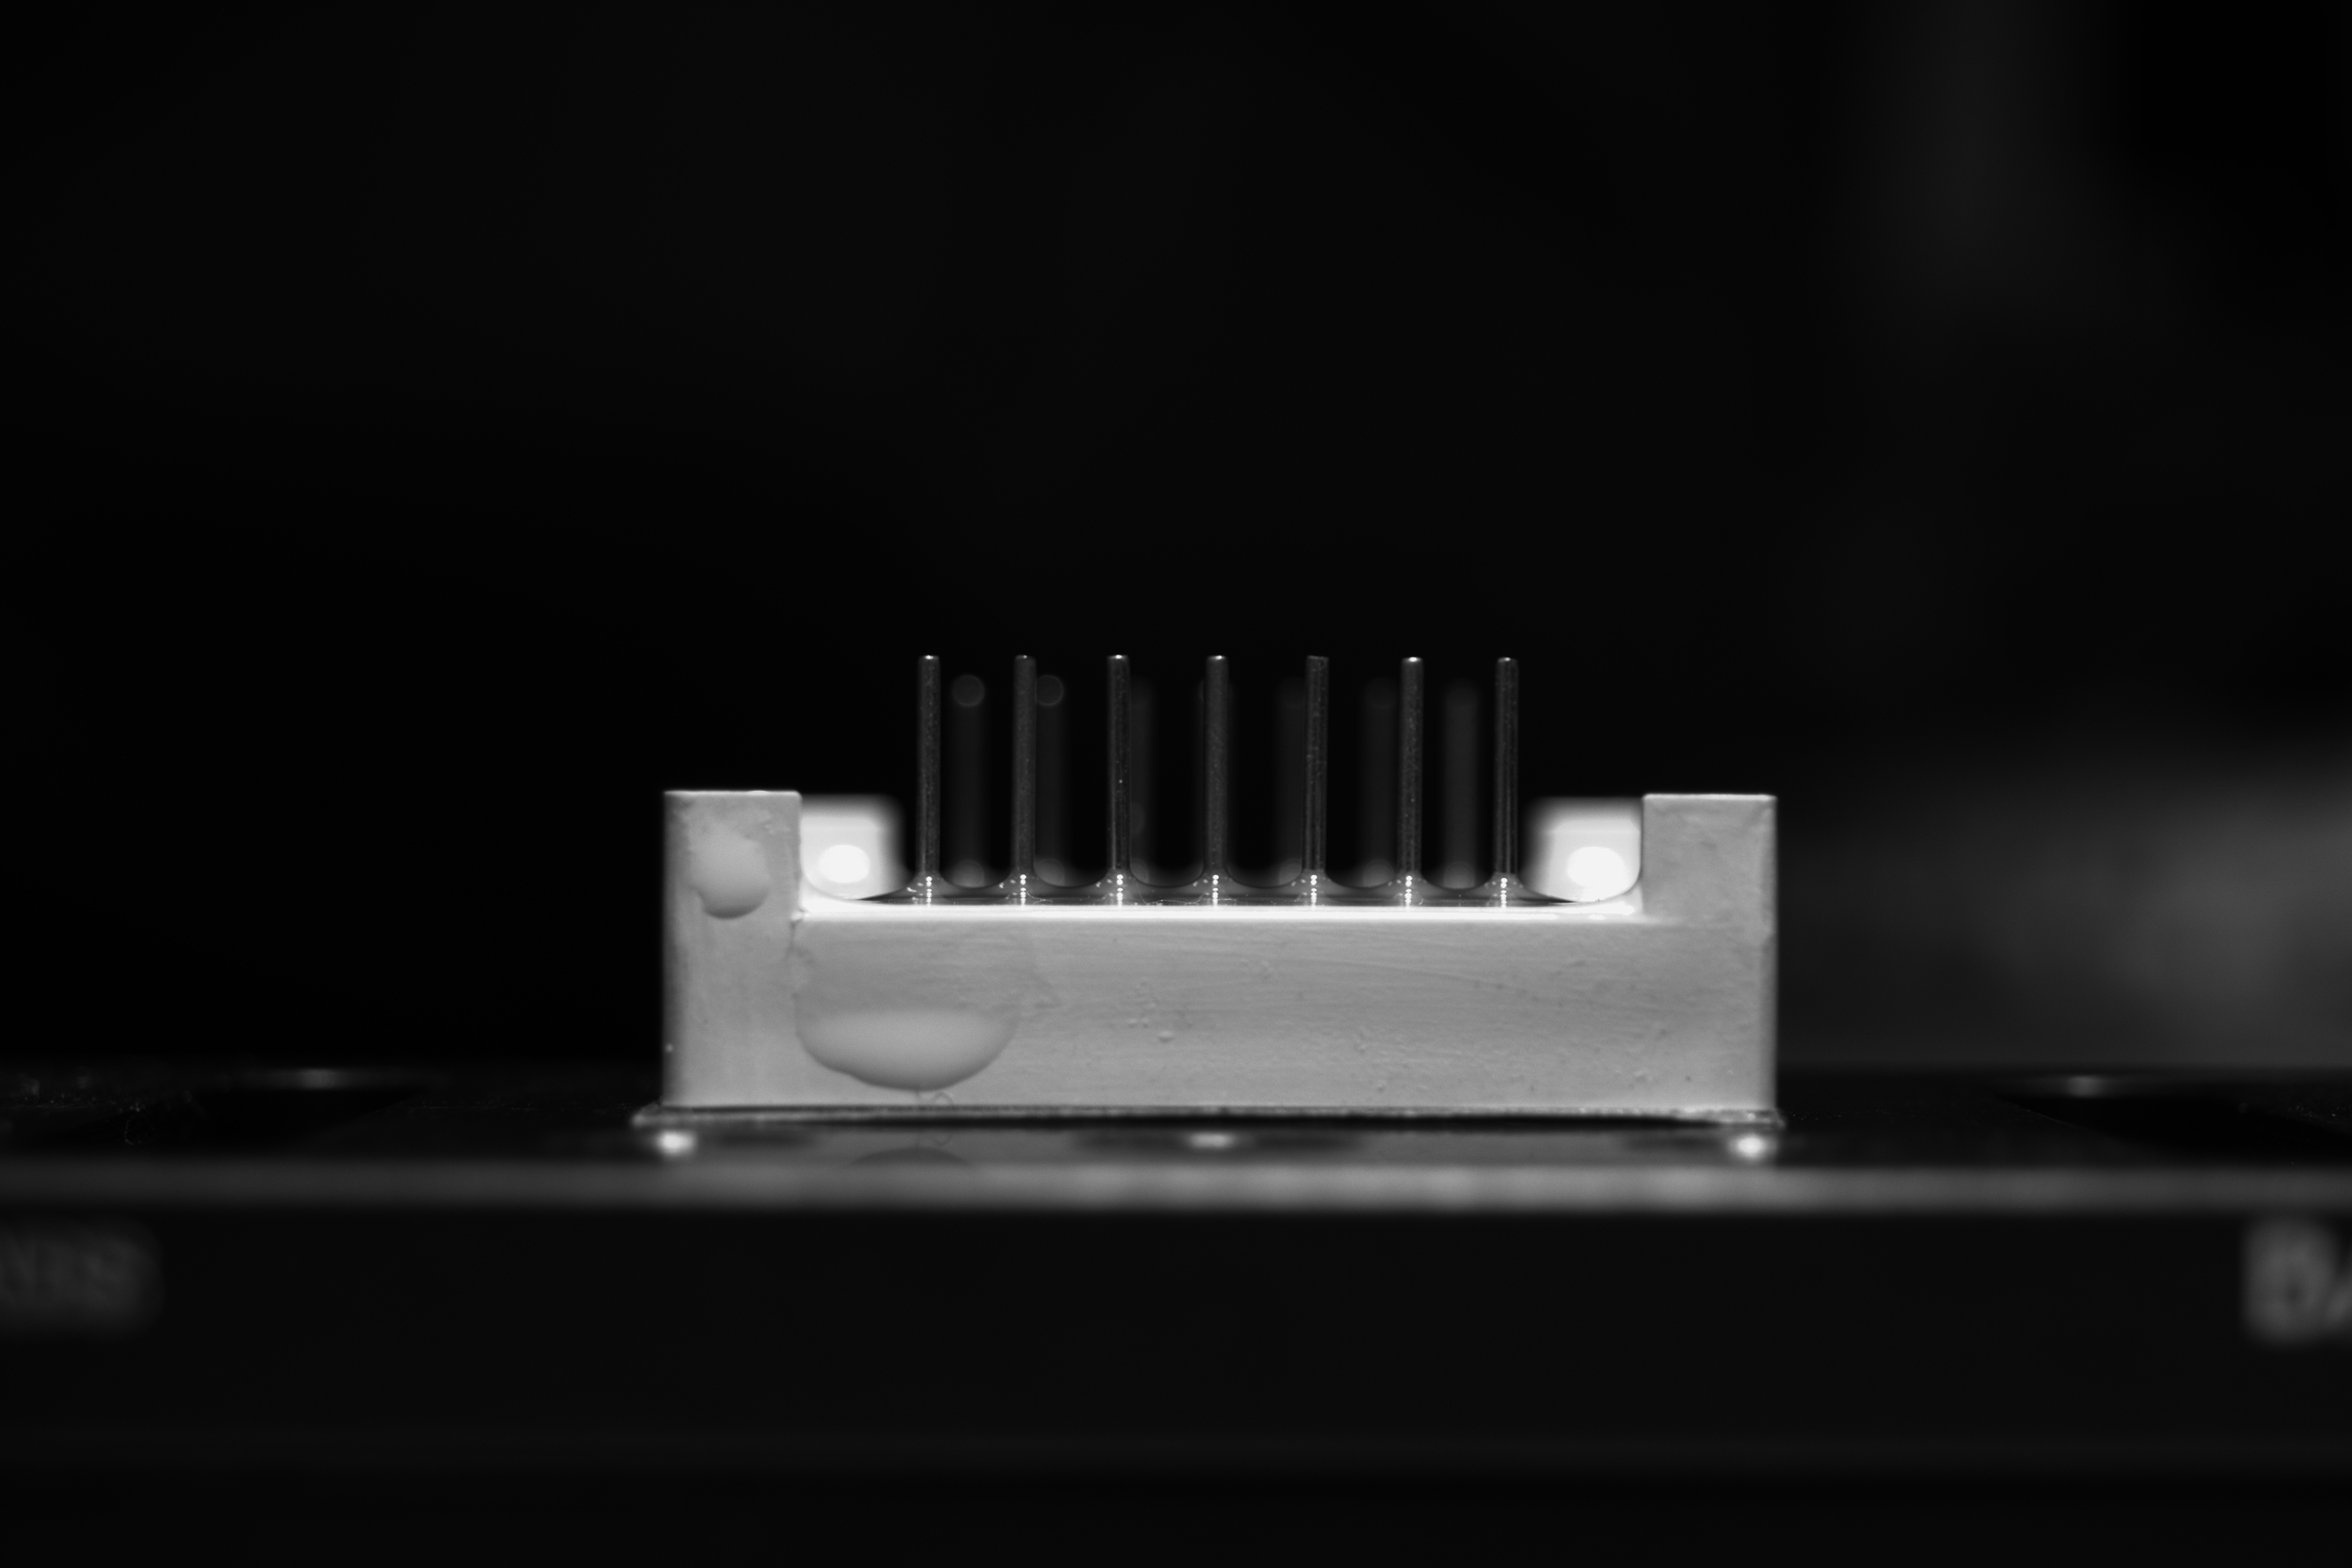glue: (794, 989, 1022, 1090), (681, 808, 775, 924), (1631, 1066, 1654, 1087), (1262, 959, 1277, 980), (1351, 1036, 1368, 1053), (1155, 1029, 1176, 1043), (1374, 1078, 1388, 1094), (1136, 975, 1151, 989), (1139, 1017, 1151, 1029), (1127, 1017, 1137, 1029), (1239, 957, 1249, 968)
